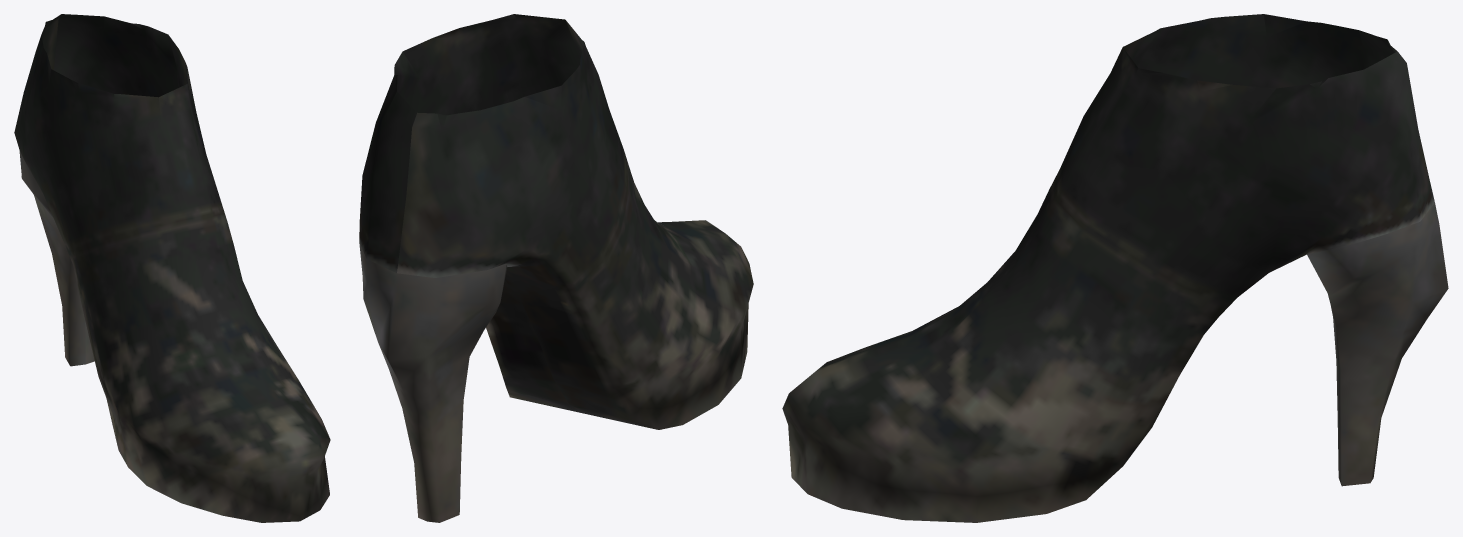
Rendered from rightfeet.obj.
The picture shows the model from 3 angles, left to right: view 1: azimuth 30°, elevation 25°; view 2: azimuth 150°, elevation 25°; view 3: azimuth 270°, elevation 25°; orthographic projection. The views are drawn at different scales.
Visible parts, largest first — view 1: rightfeet:Object01 rightfeet:polySurface3 rightfeet:polySurface4, rightfeet:Object01 rightfeet:polySurface2 rightfeet:polySurface3; view 2: rightfeet:Object01 rightfeet:polySurface3 rightfeet:polySurface4, rightfeet:Object01 rightfeet:polySurface2 rightfeet:polySurface3; view 3: rightfeet:Object01 rightfeet:polySurface3 rightfeet:polySurface4, rightfeet:Object01 rightfeet:polySurface2 rightfeet:polySurface3.
Part boxes in pixels (left/top/right/bottom): rightfeet:Object01 rightfeet:polySurface3 rightfeet:polySurface4: left=14, top=14, right=330, bottom=522; rightfeet:Object01 rightfeet:polySurface2 rightfeet:polySurface3: left=19, top=150, right=94, bottom=366; rightfeet:Object01 rightfeet:polySurface3 rightfeet:polySurface4: left=359, top=14, right=753, bottom=429; rightfeet:Object01 rightfeet:polySurface2 rightfeet:polySurface3: left=359, top=242, right=507, bottom=522; rightfeet:Object01 rightfeet:polySurface3 rightfeet:polySurface4: left=782, top=14, right=1434, bottom=522; rightfeet:Object01 rightfeet:polySurface2 rightfeet:polySurface3: left=1307, top=203, right=1448, bottom=486.
Size of the model in its own units: 1.82 by 3.64 by 5.16.
Materials: 1 (1 with a texture image).
